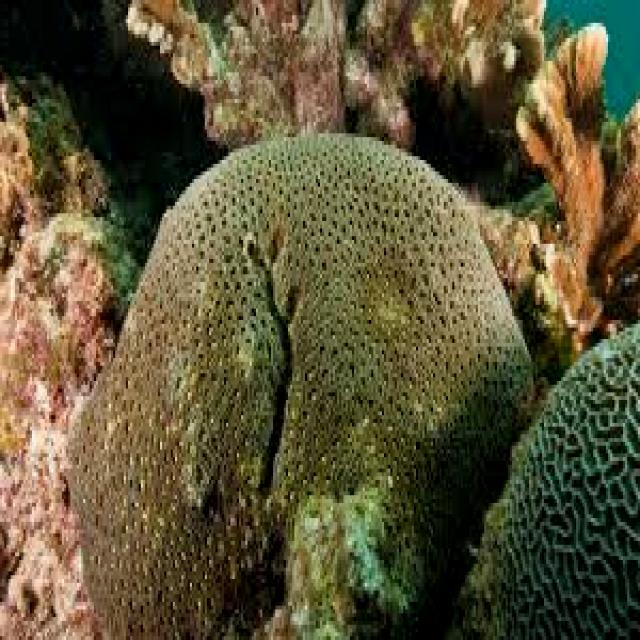Coral: (75, 133, 534, 640), (455, 316, 640, 640), (515, 19, 640, 363)
